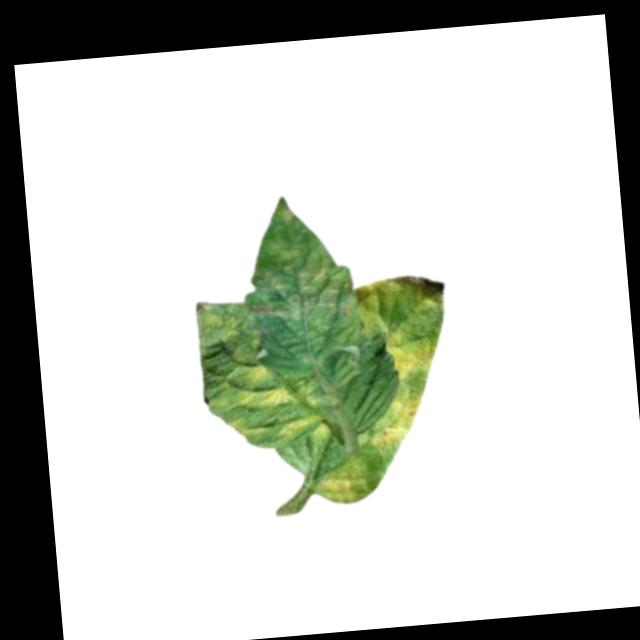Leaf_Mold: (234, 194, 351, 326), (222, 361, 316, 448), (347, 271, 449, 330), (370, 384, 429, 450), (377, 323, 440, 380), (316, 452, 371, 508)
